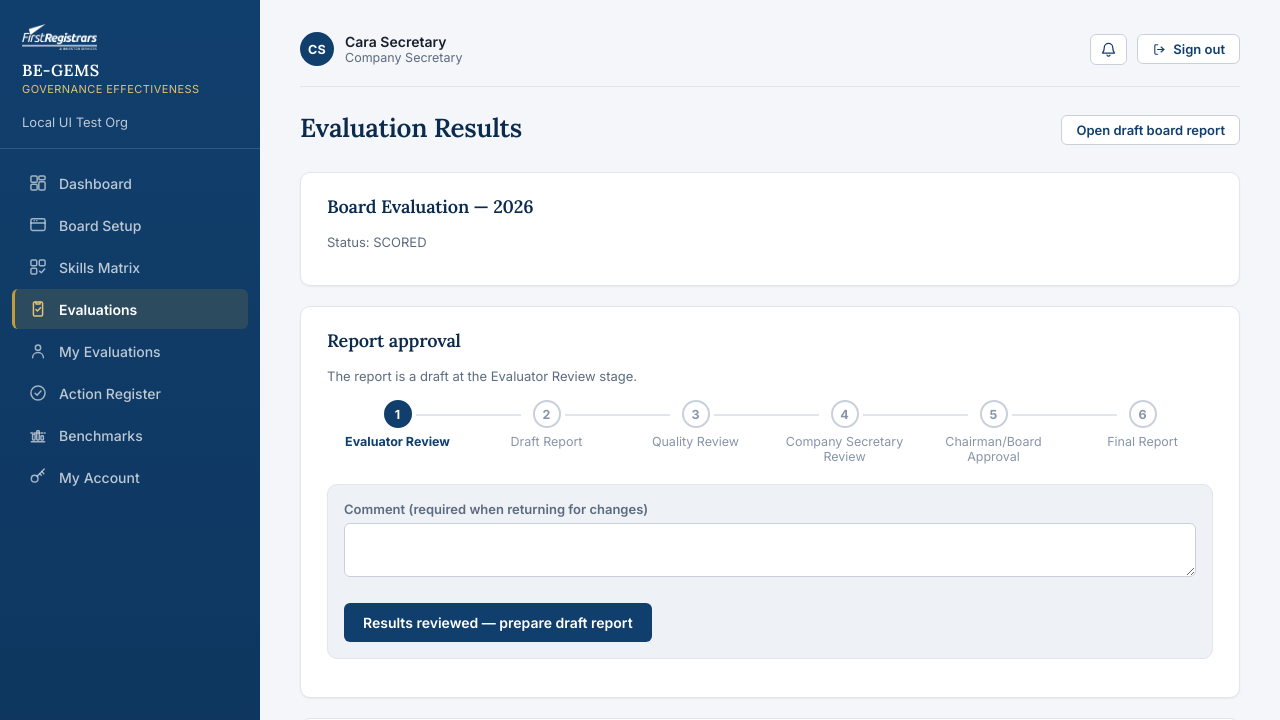
Test: EvaluationResultsPage › shows the server's message when the report can't be generated
The width and height of the screenshot is (1280, 720).
Click the button "Open draft board report".
click(1151, 130)  # box [1062, 114, 1240, 144]
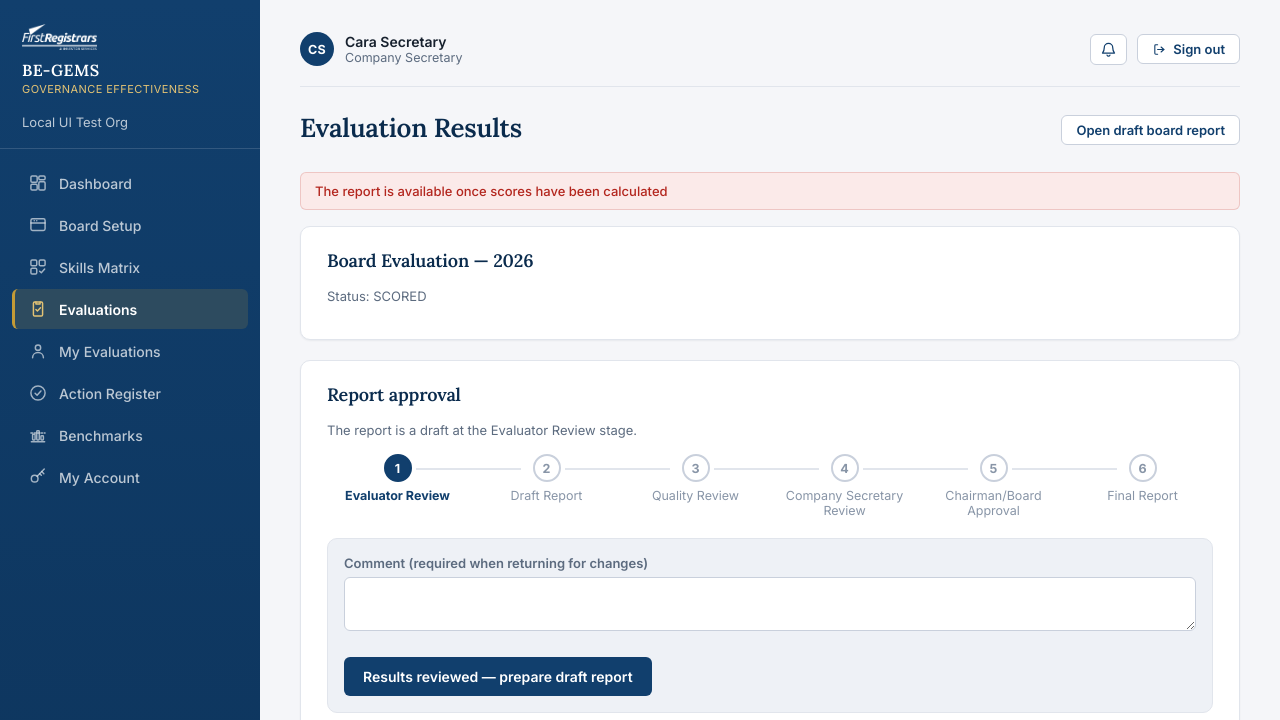
Result: the text "The report is available once scores have been calculated" is shown at [300, 172, 1240, 210]
